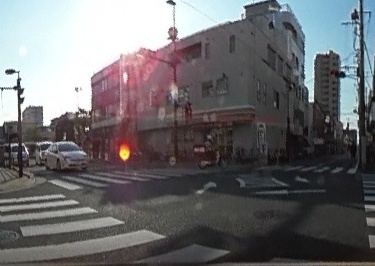person: (203, 133, 214, 159), (348, 139, 358, 165)
